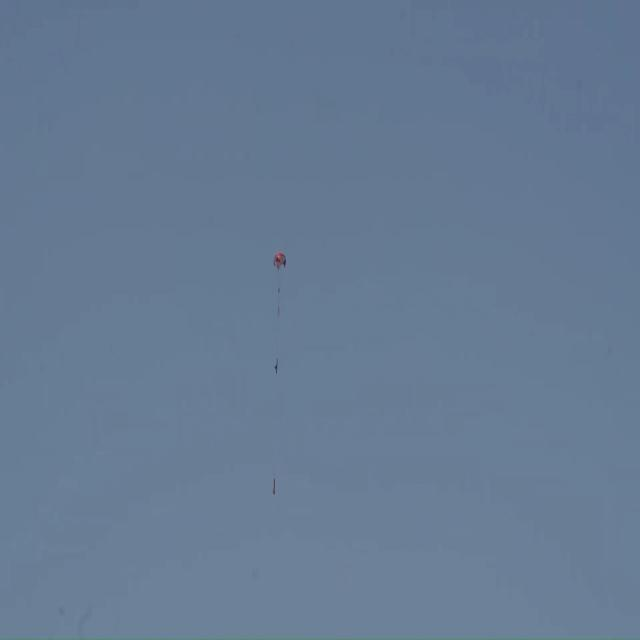Rocket: (273, 478, 275, 494)
